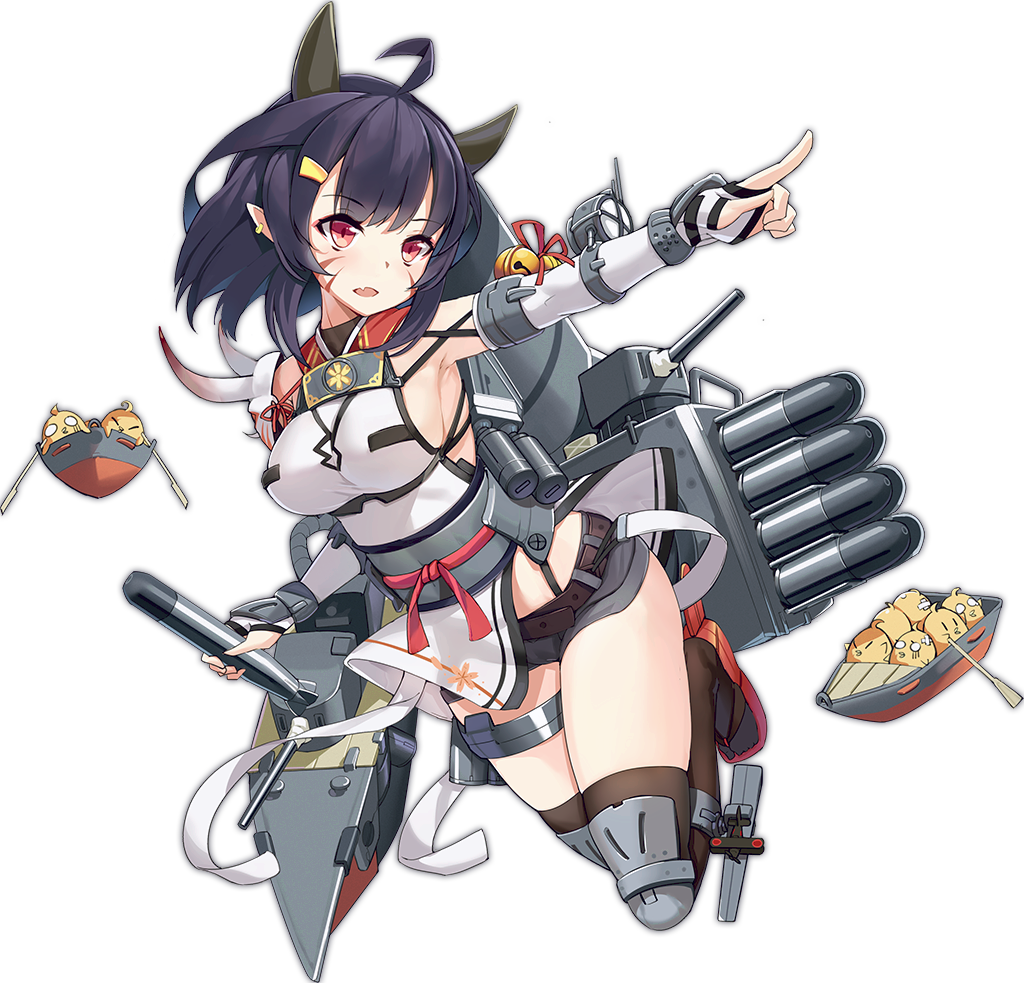person: (155, 81, 624, 956)
